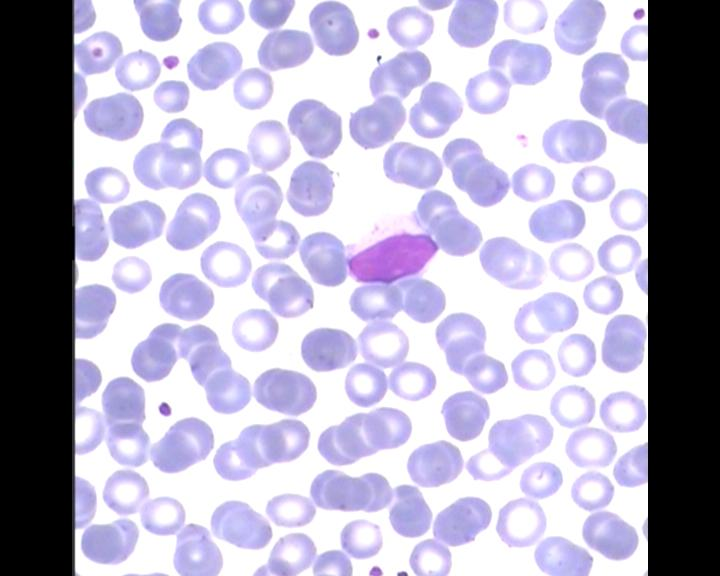mono: (338, 211, 439, 285)
